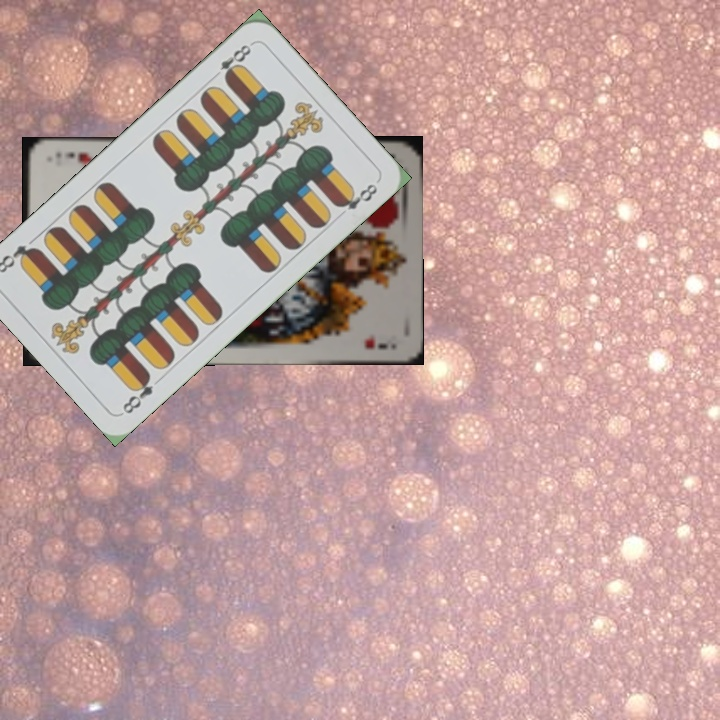E8: (207, 39, 256, 84), (118, 369, 156, 417)
